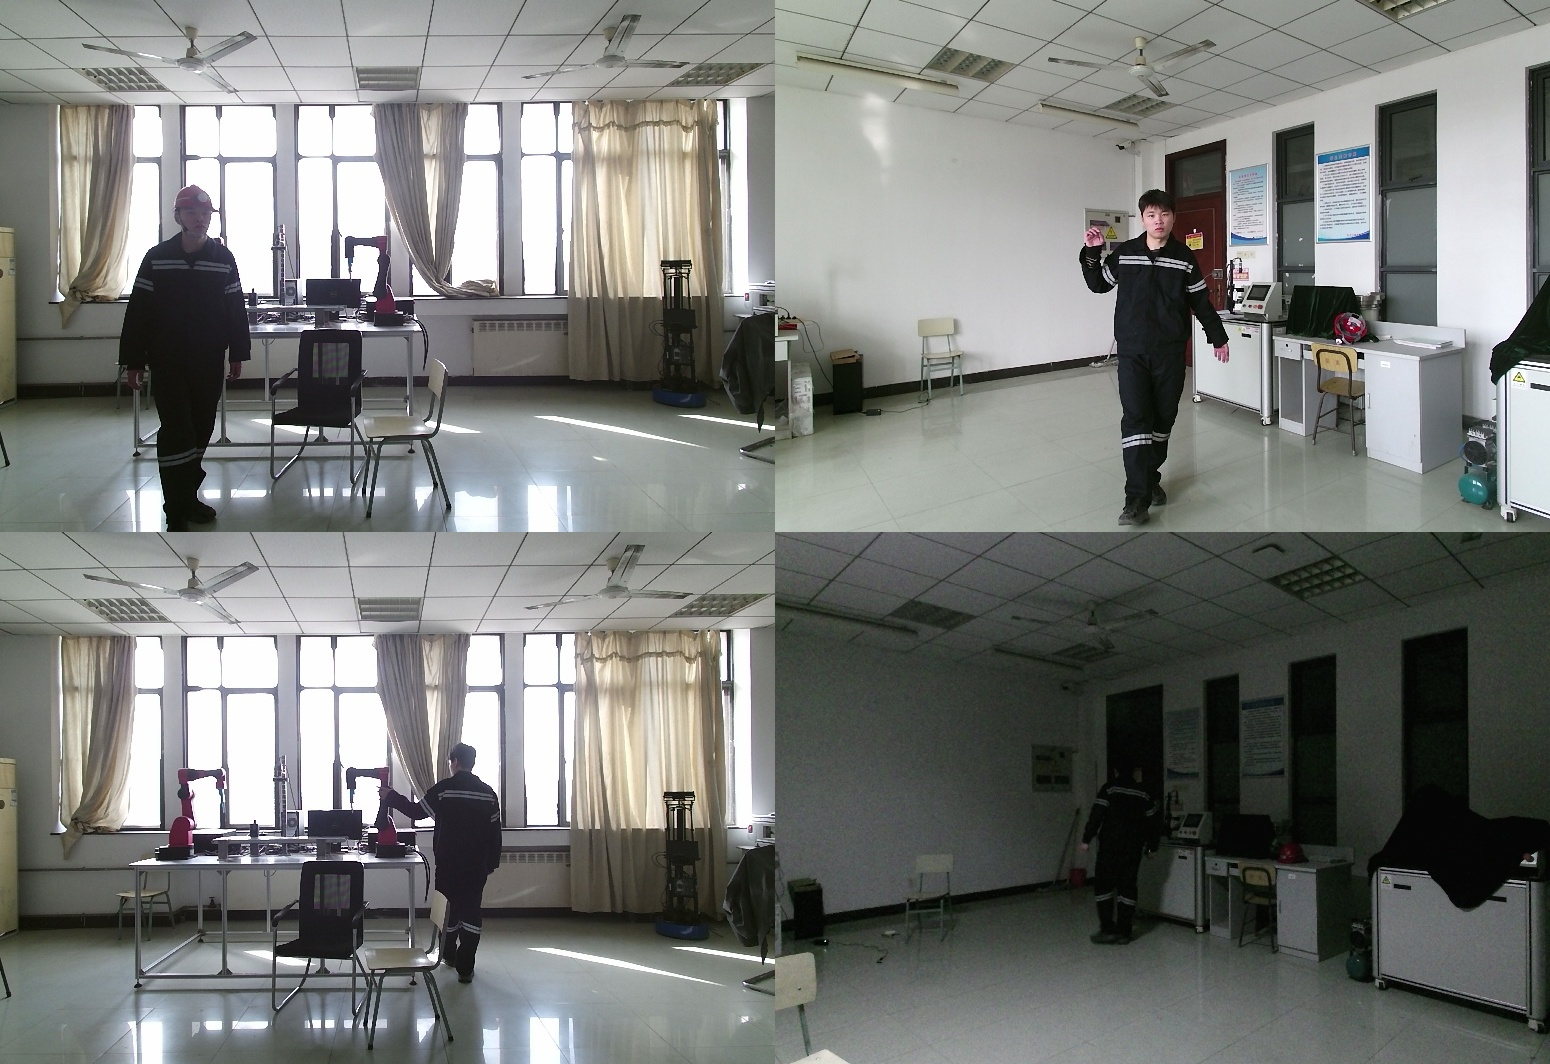person: (1080, 191, 1232, 521), (121, 187, 251, 532), (390, 747, 508, 982), (1081, 756, 1171, 953)
